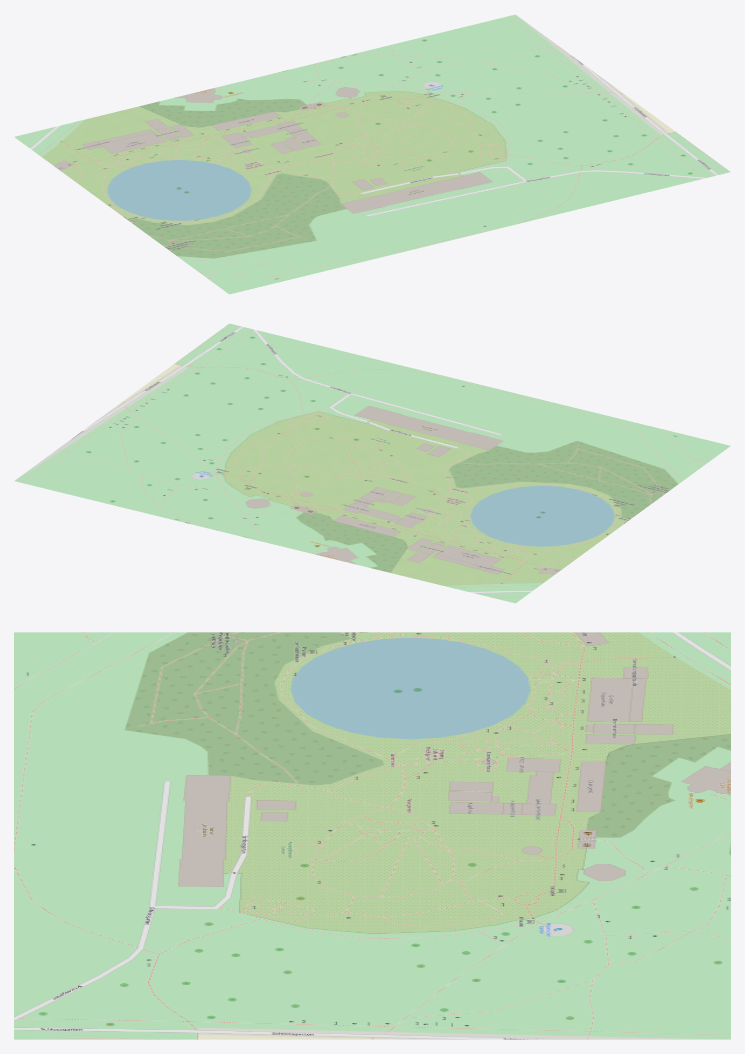
File: basemap.gltf
3 views of the same model, one above another, from view 1: azimuth 30°, elevation 25°; view 2: azimuth 150°, elevation 25°; view 3: azimuth 270°, elevation 25° (orthographic). The views are drawn at different scales.
Parts seen in each view (by area): view 1: Terrain; view 2: Terrain; view 3: Terrain.
Part boxes in pixels (x1,y1,x2,y2): Terrain: (14,14,730,294); Terrain: (14,323,730,603); Terrain: (14,632,730,1039).
Size of the model in its own units: 304 by 0 by 226.
1 material, 1 textured.
